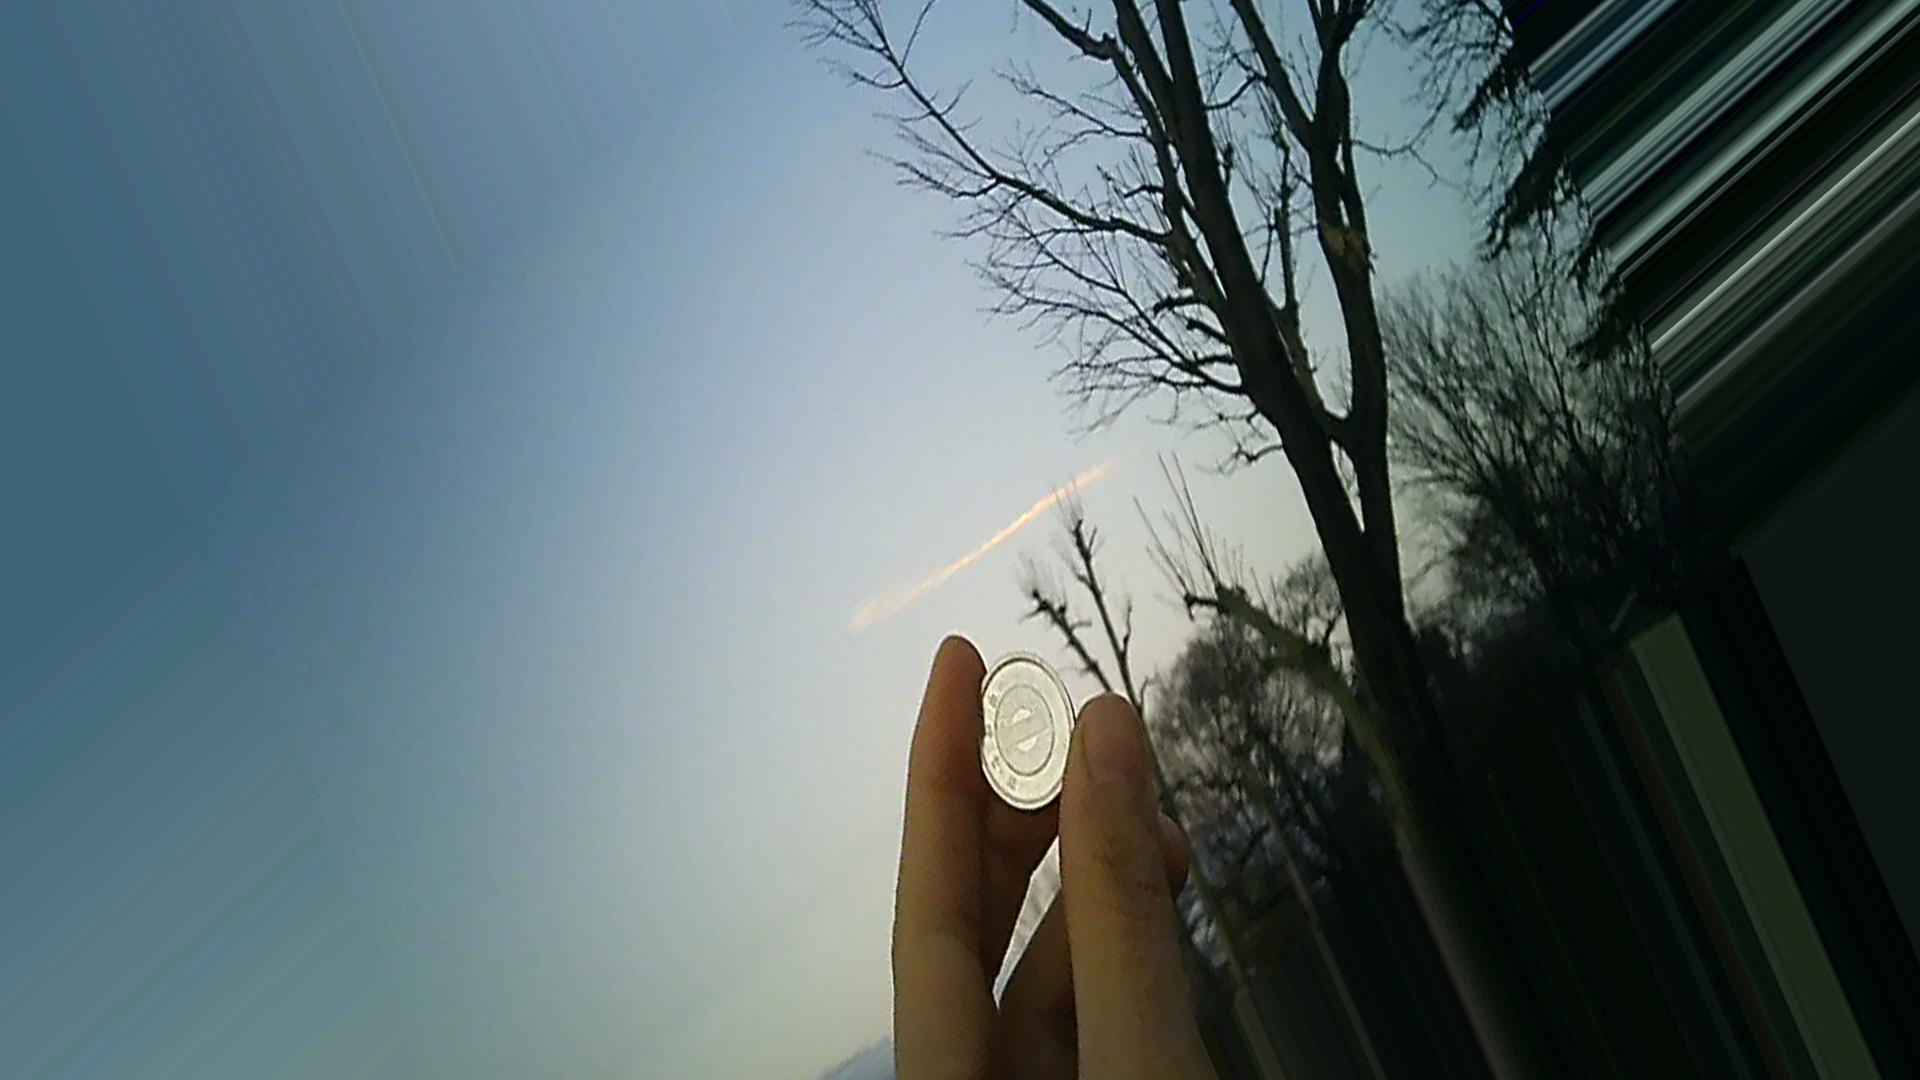1 Yen: (947, 647, 1083, 800)
